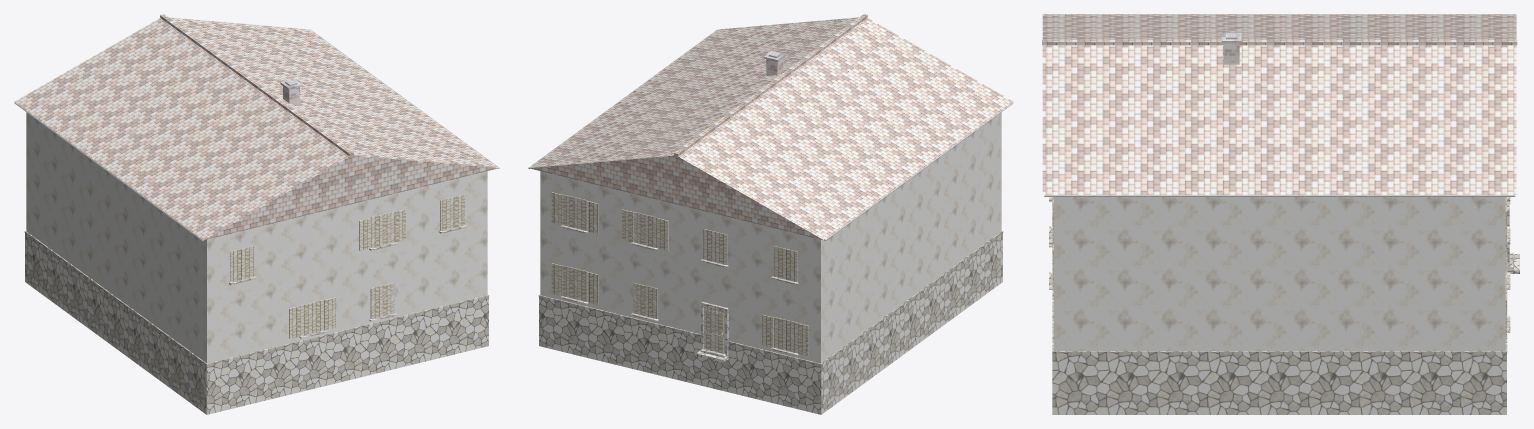
3 views of the same model, side by side, from view 1: azimuth 30°, elevation 25°; view 2: azimuth 150°, elevation 25°; view 3: azimuth 270°, elevation 25° (orthographic). The views are drawn at different scales.
Parts seen in each view (by area): view 1: b615241429; view 2: b615241429; view 3: b615241429.
Part boxes in pixels (x1=…): b615241429: x1=14, y1=14, x2=499, y2=414; b615241429: x1=528, y1=14, x2=1013, y2=414; b615241429: x1=1042, y1=14, x2=1519, y2=414.
Size of the model in its own units: 13.6 by 10.58 by 15.12.
19 materials, 19 textured.
